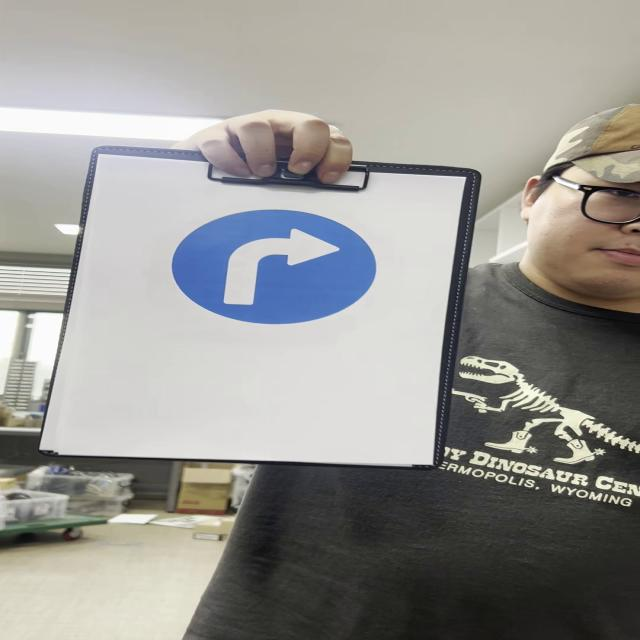right: (175, 210, 380, 324)
